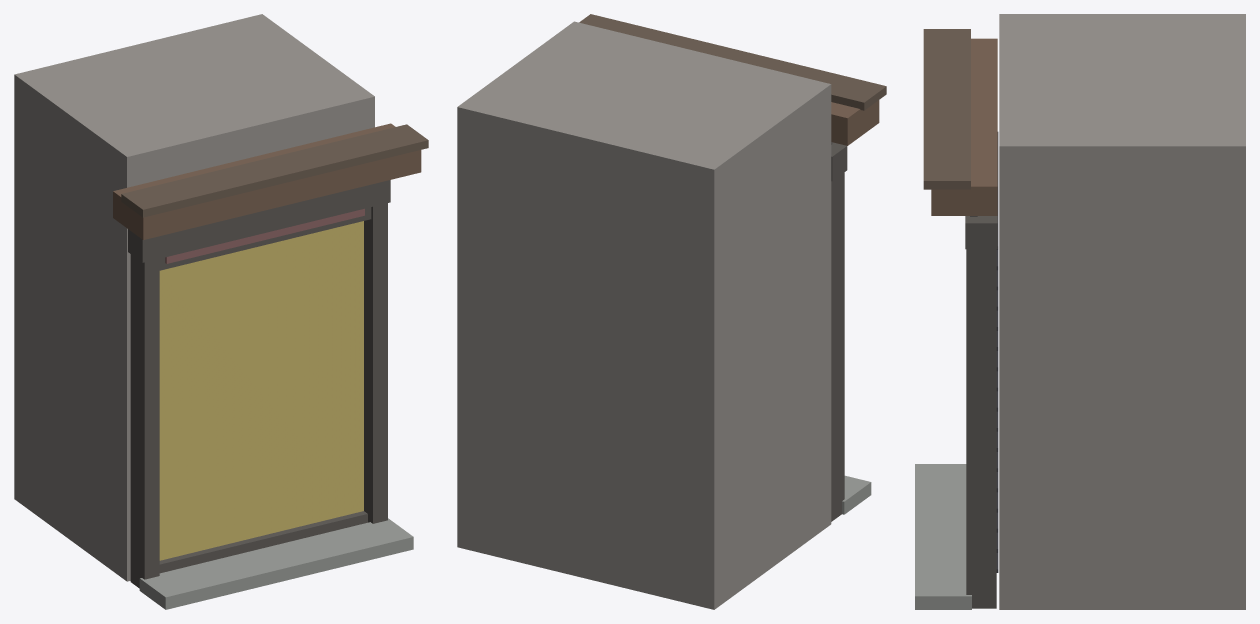
Rendered from prop_shutter_shop_mustard.glb.
The picture shows the model from 3 angles, left to right: view 1: azimuth 30°, elevation 25°; view 2: azimuth 150°, elevation 25°; view 3: azimuth 270°, elevation 25°; orthographic projection. The views are drawn at different scales.
Parts seen in each view (by area): view 1: shutter_shop_mustard; view 2: shutter_shop_mustard; view 3: shutter_shop_mustard.
Part boxes in pixels (bbox=[...]): shutter_shop_mustard: bbox=[14, 14, 428, 609]; shutter_shop_mustard: bbox=[457, 14, 886, 609]; shutter_shop_mustard: bbox=[915, 14, 1245, 609].
Bounding box in the file's own units: 3.8 × 5.4 × 3.49.
